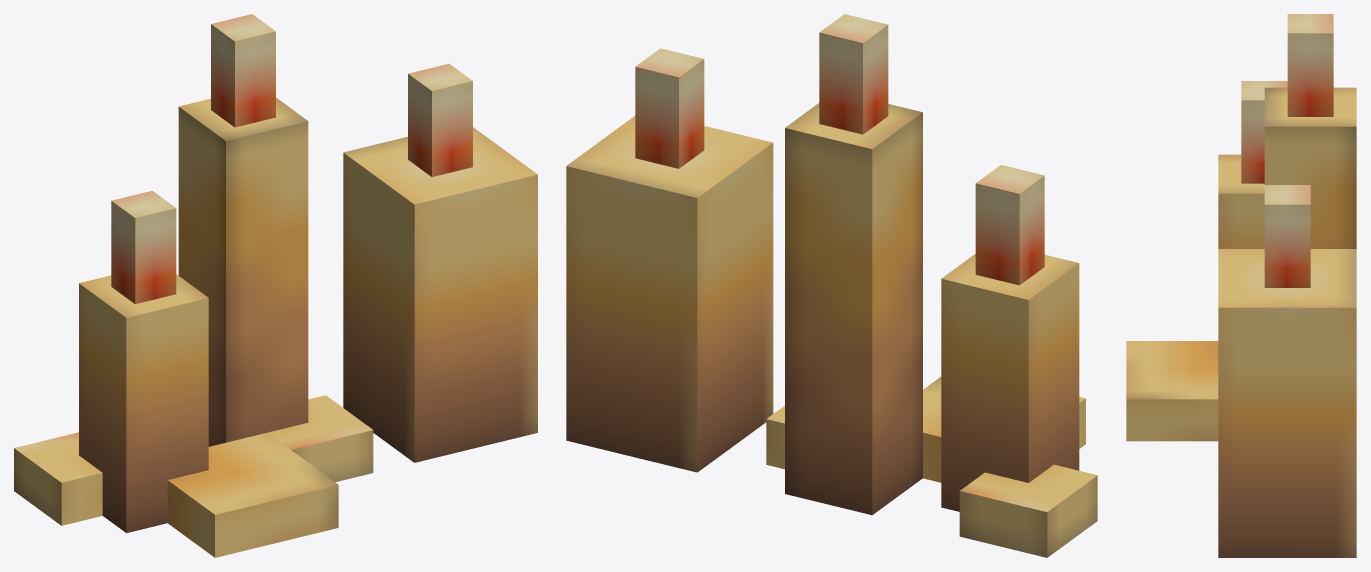
Rendered from candle_arrangement_02_lit.fbx.
3 views of the same model, side by side, from view 1: azimuth 30°, elevation 25°; view 2: azimuth 150°, elevation 25°; view 3: azimuth 270°, elevation 25° (orthographic). The views are drawn at different scales.
Visible parts, largest first — view 1: candle_arrangement_02_lit; view 2: candle_arrangement_02_lit; view 3: candle_arrangement_02_lit.
Part boxes in pixels (left/top/right/bottom): candle_arrangement_02_lit: left=14, top=14, right=537, bottom=557; candle_arrangement_02_lit: left=566, top=14, right=1097, bottom=557; candle_arrangement_02_lit: left=1126, top=14, right=1356, bottom=557.
Size of the model in its own units: 11 by 10 by 5.
